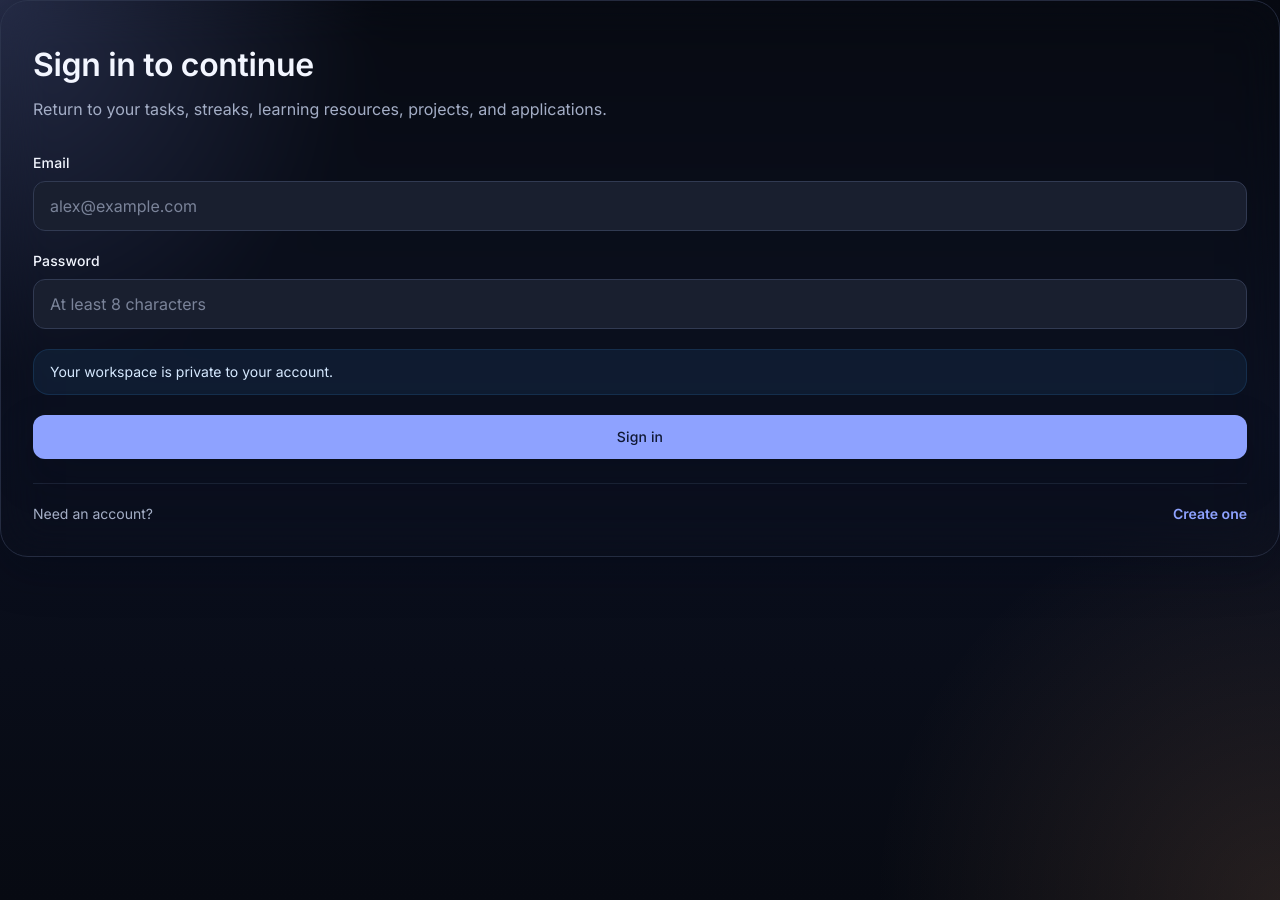
Scenario: AuthCard › shows client-side validation errors before submitting
Click the button "Sign in" at [640, 437], box [33,415,1247,459]
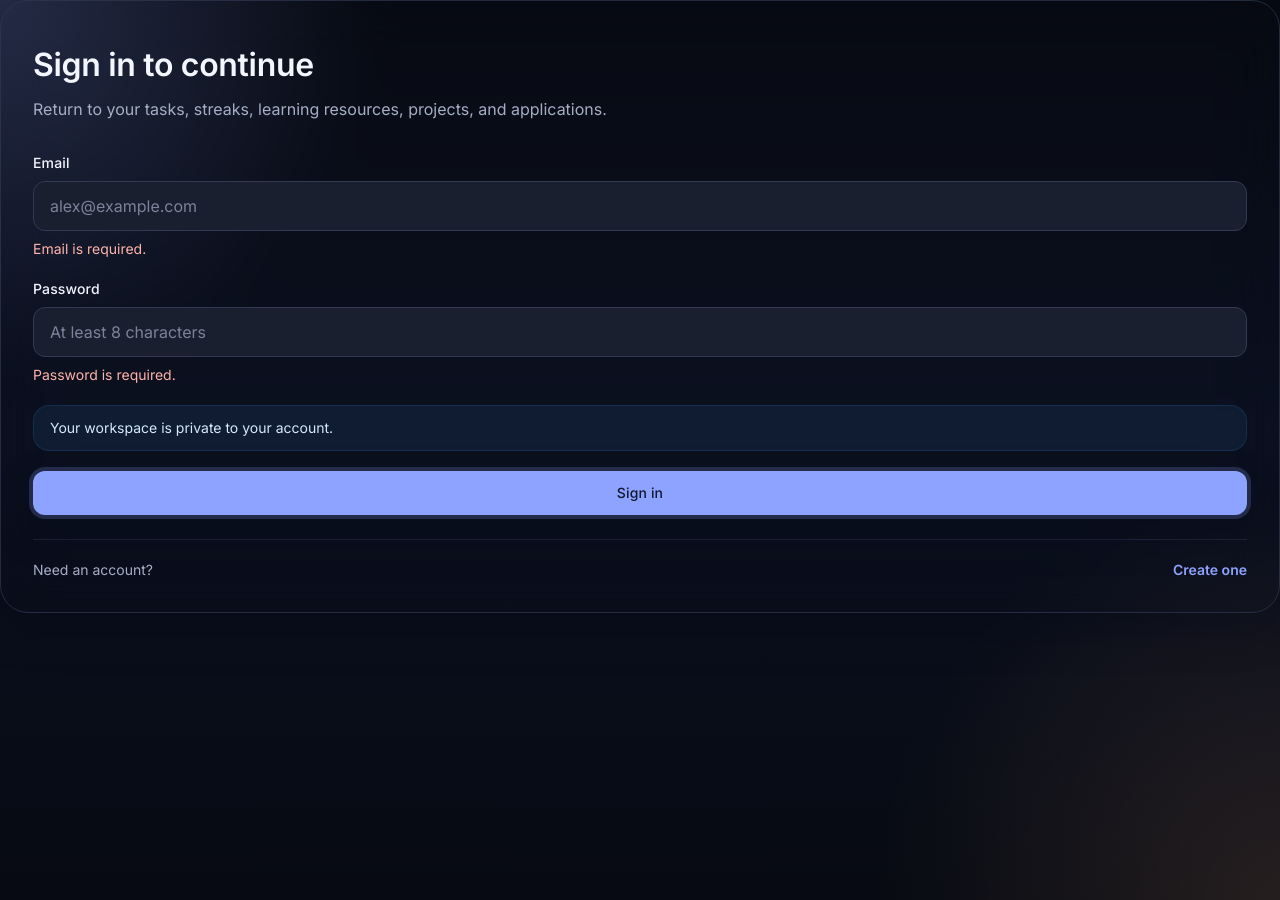
Check: the text "Email is required." is shown, box [33,240,146,257]
Check: the text "Password is required." is shown, box [33,366,176,383]
